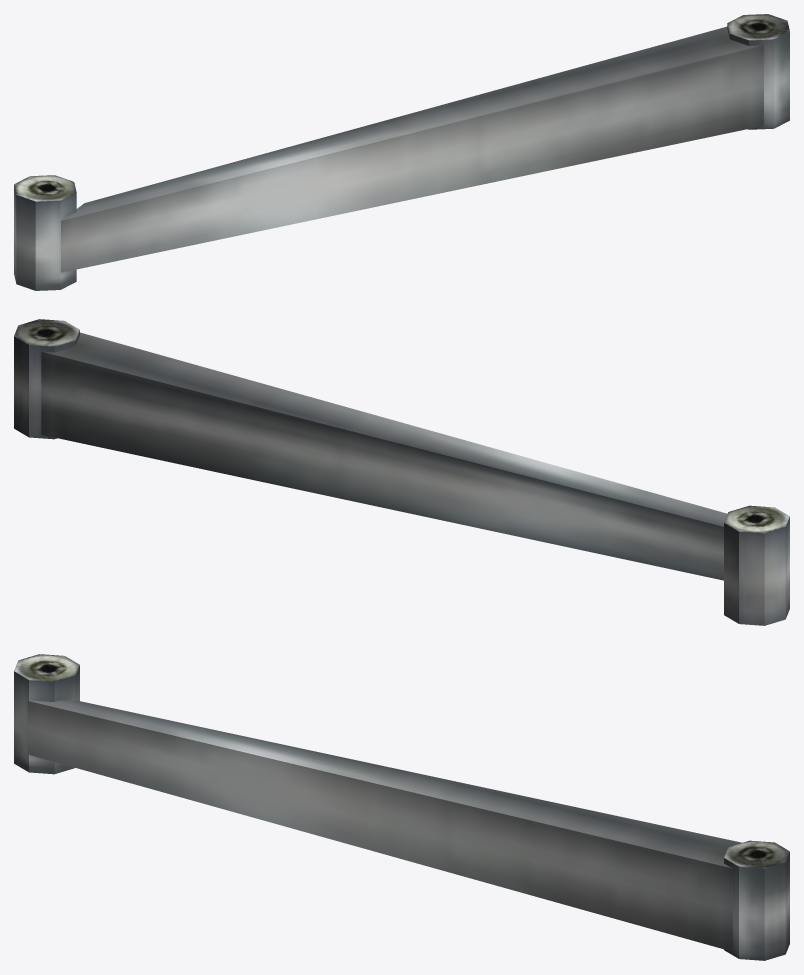
The model's file is trainAvBarre.fbx.
3 renders of one model, top to bottom at view 1: azimuth 30°, elevation 25°; view 2: azimuth 150°, elevation 25°; view 3: azimuth 330°, elevation 25°, orthographic. The views are drawn at different scales.
Visible parts, largest first — view 1: ShapeIndexedFaceSet; view 2: ShapeIndexedFaceSet; view 3: ShapeIndexedFaceSet.
Part boxes in pixels (x1,y1,x2,y2): ShapeIndexedFaceSet: (14,14,789,290); ShapeIndexedFaceSet: (14,319,789,625); ShapeIndexedFaceSet: (14,654,789,960).
Bounding box in the file's own units: 0.8005 × 0.0903 × 0.0841.
